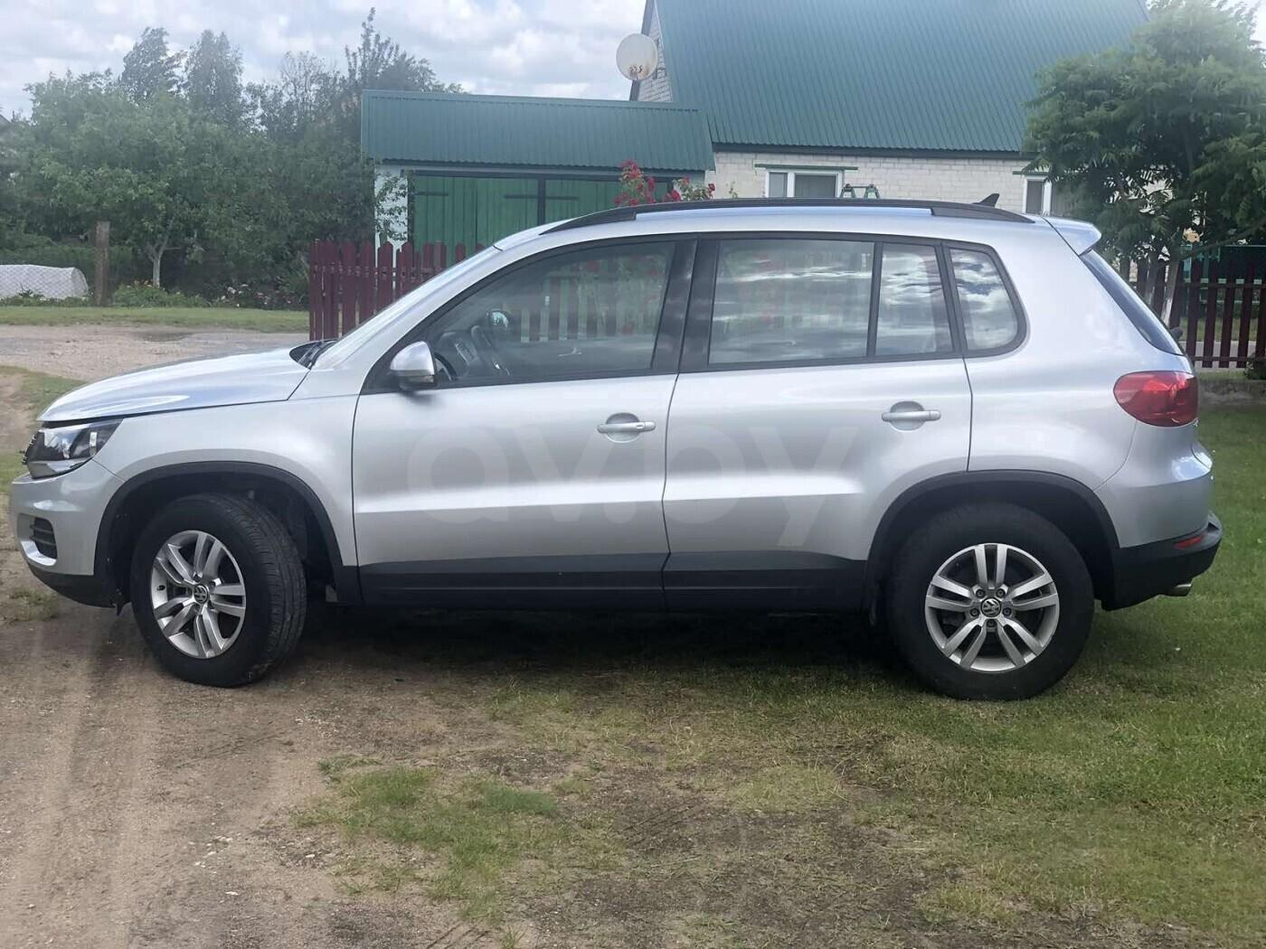Tiguan_2011-2018: (4, 196, 1227, 705)
